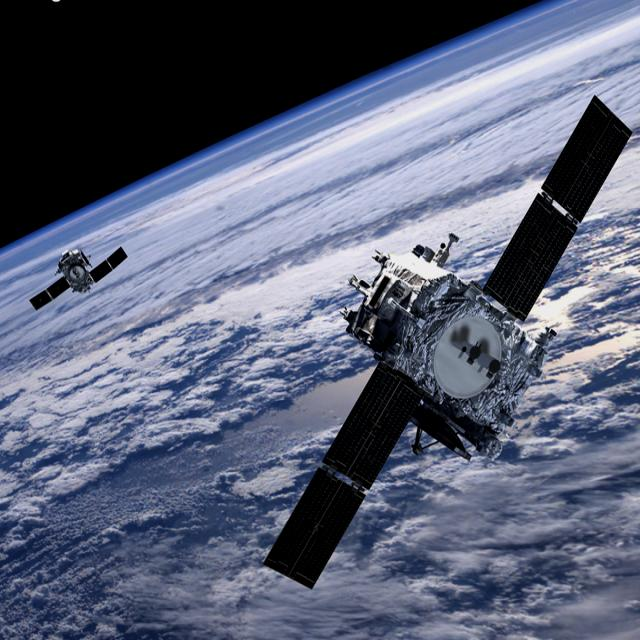satellite: (245, 84, 640, 601), (20, 233, 137, 326)
